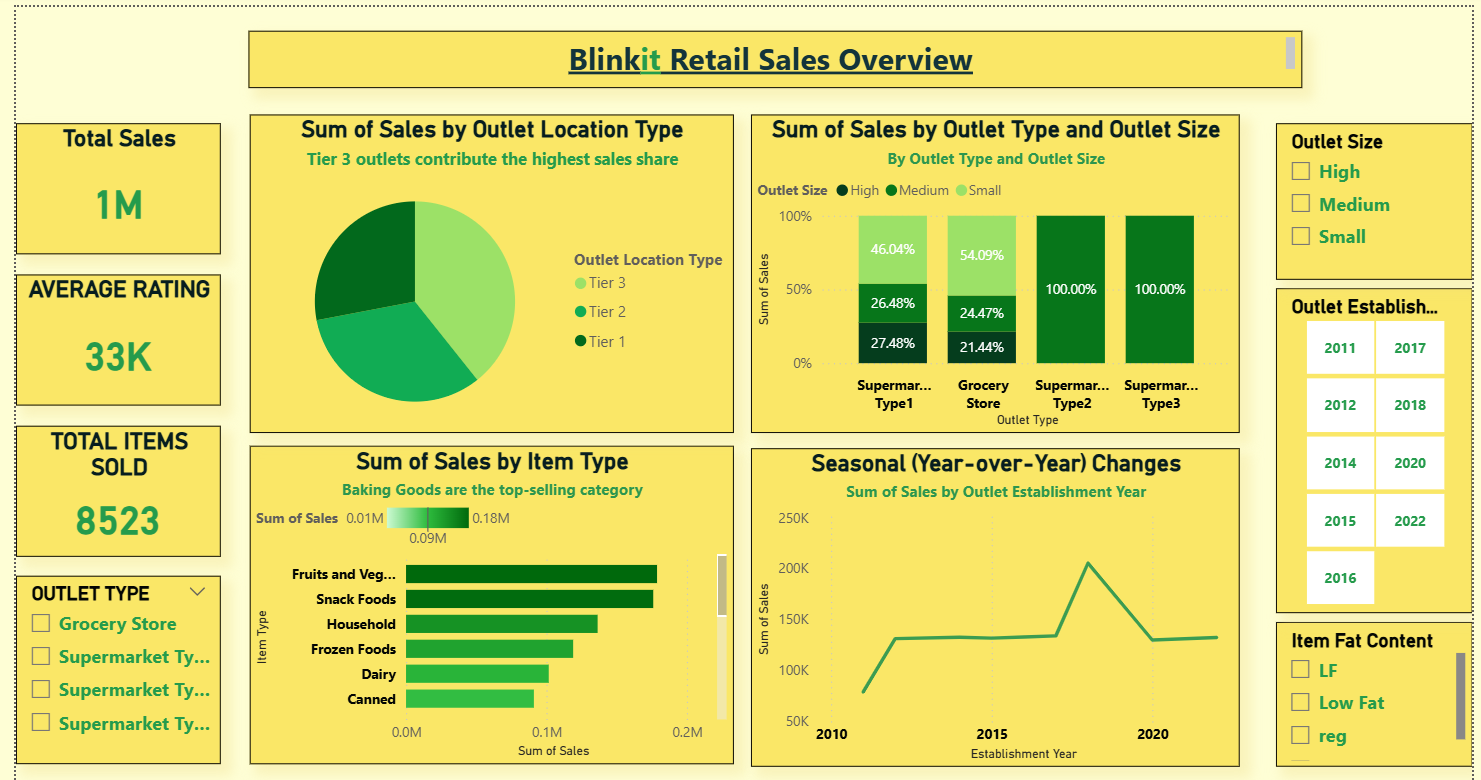

The dashboard page shown, as its layout file describes it:
{"tool":"powerbi","page":{"name":"Sales Dashboard","canvas":[1280,720],"ordinal":0},"visuals":[{"type":"card","title":"Total Sales","fields":{"Values":["Sum(BlinkIT Grocery Data.Sales)"]},"box":[0,102.2,180.2,115.4],"z":0},{"type":"card","title":"AVERAGE RATING","fields":{"Values":["Sum(BlinkIT Grocery Data.Rating)"]},"box":[0,235.2,180.2,115.4],"z":1000},{"type":"card","title":"TOTAL ITEMS SOLD","fields":{"Values":["CountNonNull(BlinkIT Grocery Data.Item Identifier)"]},"box":[0,368.1,180.2,115.4],"z":2000},{"type":"clusteredBarChart","fields":{"Y":["Sum(BlinkIT Grocery Data.Sales)"],"Category":["BlinkIT Grocery Data.Item Type"]},"box":[205.5,385.7,425.3,280.2],"z":3000},{"type":"pieChart","fields":{"Category":["BlinkIT Grocery Data.Outlet Location Type"],"Y":["Sum(BlinkIT Grocery Data.Sales)"]},"box":[205.5,94.5,425.3,280.2],"z":4000},{"type":"hundredPercentStackedColumnChart","fields":{"Category":["BlinkIT Grocery Data.Outlet Type"],"Series":["BlinkIT Grocery Data.Outlet Size"],"Y":["Sum(BlinkIT Grocery Data.Sales)"]},"box":[646.2,94.5,429.7,280.2],"z":5000},{"type":"slicer","fields":{"Values":["BlinkIT Grocery Data.Item Fat Content"]},"box":[1107.7,540.7,172.5,127.5],"z":6000},{"type":"slicer","fields":{"Values":["BlinkIT Grocery Data.Outlet Establishment Year"]},"box":[1107.7,247.3,172.5,285.7],"z":7000},{"type":"slicer","fields":{"Values":["BlinkIT Grocery Data.Outlet Size"]},"box":[1107.7,102.2,172.5,137.4],"z":8000},{"type":"slicer","fields":{"Values":["BlinkIT Grocery Data.Outlet Type"]},"box":[0,500,180.2,165.9],"z":9000},{"type":"textbox","box":[204.4,20.9,926.4,50.5],"z":10000},{"type":"lineChart","title":"Seasonal (Year-over-Year) Changes","fields":{"Category":["BlinkIT Grocery Data.Outlet Establishment Year"],"Y":["Sum(BlinkIT Grocery Data.Sales)"]},"box":[646.2,387.9,429.7,280.2],"z":11000}]}

Visuals, with their boxes on the page's 1280x720 design canvas (x1, y1, x2, y2). These are canvas units, not pixel positions in the 1481x780 screenshot, which may show the page scaled, cropped or inside an application window:
"Total Sales" card: [x1=0, y1=102, x2=180, y2=218]
"AVERAGE RATING" card: [x1=0, y1=235, x2=180, y2=351]
"TOTAL ITEMS SOLD" card: [x1=0, y1=368, x2=180, y2=484]
clusteredBarChart - Sum(BlinkIT Grocery Data.Sales) x BlinkIT Grocery Data.Item Type: [x1=206, y1=386, x2=631, y2=666]
pieChart - BlinkIT Grocery Data.Outlet Location Type x Sum(BlinkIT Grocery Data.Sales): [x1=206, y1=94, x2=631, y2=375]
hundredPercentStackedColumnChart - BlinkIT Grocery Data.Outlet Type x BlinkIT Grocery Data.Outlet Size: [x1=646, y1=94, x2=1076, y2=375]
slicer - BlinkIT Grocery Data.Item Fat Content: [x1=1108, y1=541, x2=1280, y2=668]
slicer - BlinkIT Grocery Data.Outlet Establishment Year: [x1=1108, y1=247, x2=1280, y2=533]
slicer - BlinkIT Grocery Data.Outlet Size: [x1=1108, y1=102, x2=1280, y2=240]
slicer - BlinkIT Grocery Data.Outlet Type: [x1=0, y1=500, x2=180, y2=666]
textbox: [x1=204, y1=21, x2=1131, y2=71]
"Seasonal (Year-over-Year) Changes" lineChart: [x1=646, y1=388, x2=1076, y2=668]
